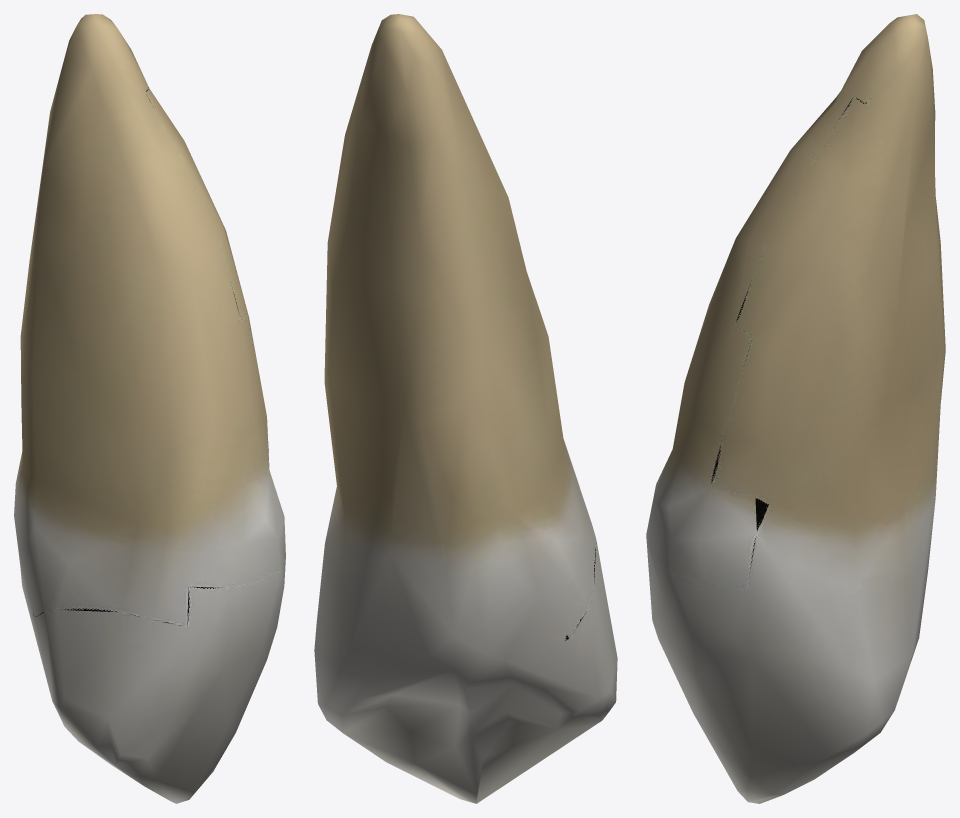
The model's file is maxillary_canine.glb.
3 views of the same model, side by side, from view 1: azimuth 30°, elevation 25°; view 2: azimuth 150°, elevation 25°; view 3: azimuth 270°, elevation 25° (orthographic). The views are drawn at different scales.
Visible parts, largest first — view 1: Object_2; view 2: Object_2; view 3: Object_2.
Boxes of the visible parts, x1=… form: Object_2: x1=14, y1=14, x2=285, y2=803; Object_2: x1=314, y1=14, x2=617, y2=803; Object_2: x1=646, y1=14, x2=945, y2=803.
Bounding box in the file's own units: 0.2777 × 0.9086 × 0.3159.
1 material, 1 textured.
